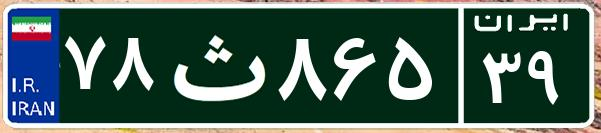3: (475, 38, 525, 113)
5: (385, 28, 445, 110)
6: (330, 28, 385, 110)
7: (57, 26, 110, 107)
8: (273, 28, 330, 110), (110, 28, 158, 105)
9: (525, 38, 570, 115)
ث: (158, 15, 273, 115)
